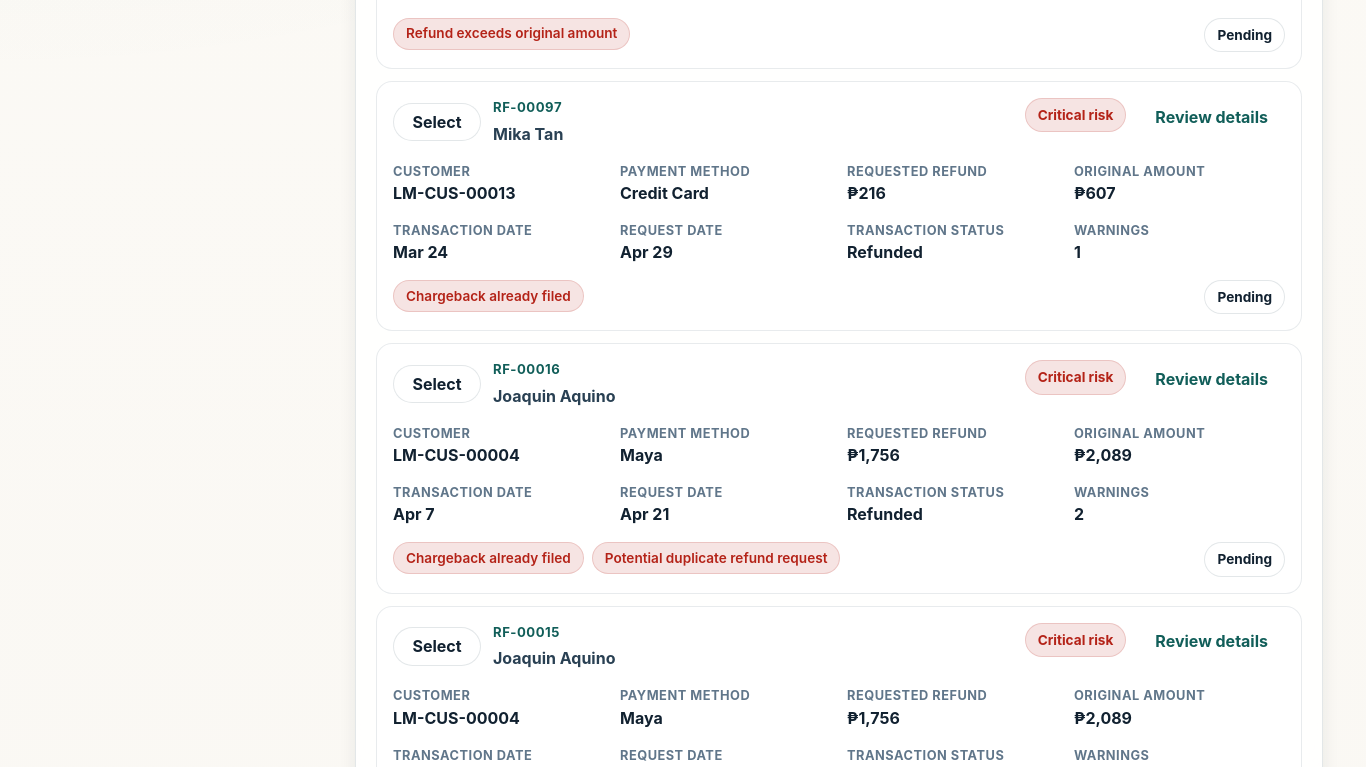
Test: AppRouter › opens batch review and allows excluding flagged items
The image size is (1366, 767).
(page scrolled)
Click the button with aria-label "Add RF-00016 to batch selection".
click(437, 384)  # box x1=393 y1=365 x2=481 y2=403
(page scrolled)
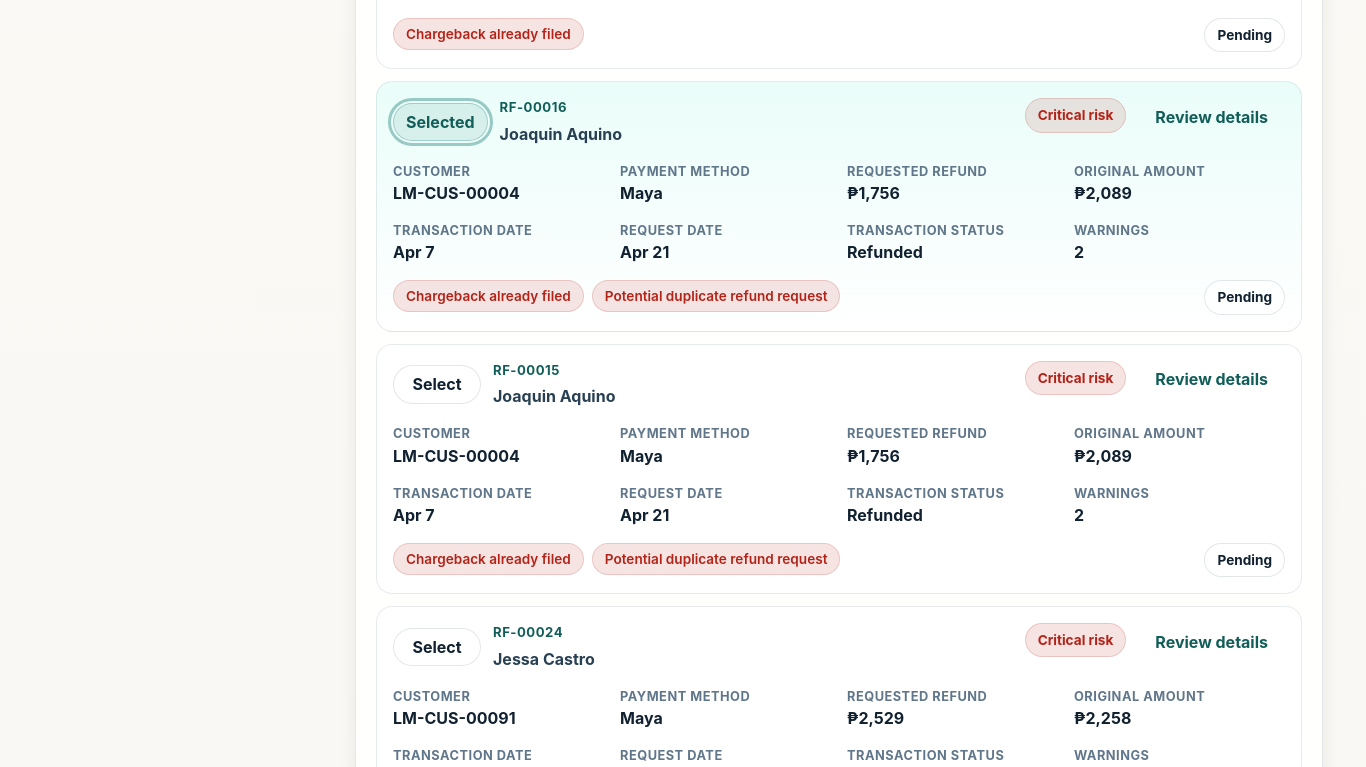
Click the button with aria-label "Add RF-00015 to batch selection".
click(437, 385)  # box x1=393 y1=366 x2=481 y2=404
(page scrolled)
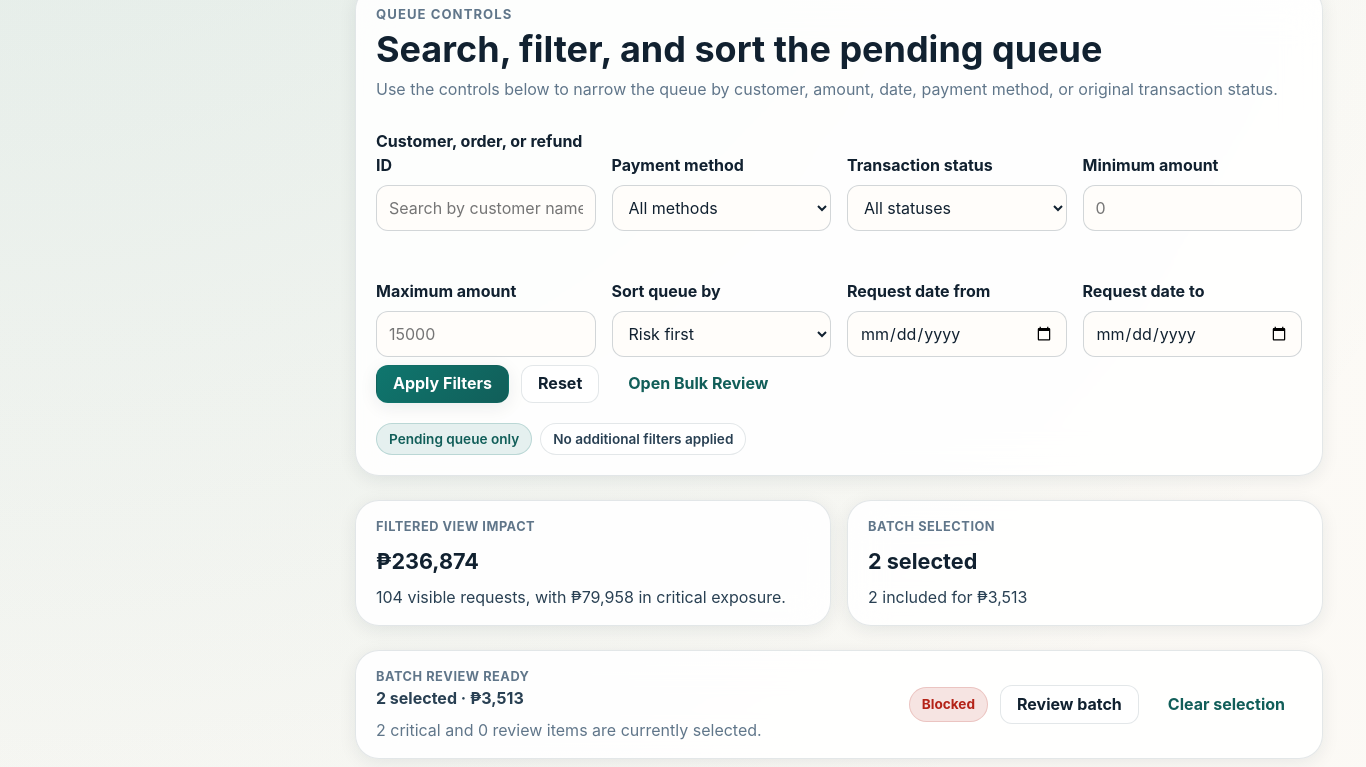
Click the button "Open Bulk Review".
click(698, 384)  # box x1=611 y1=365 x2=785 y2=403
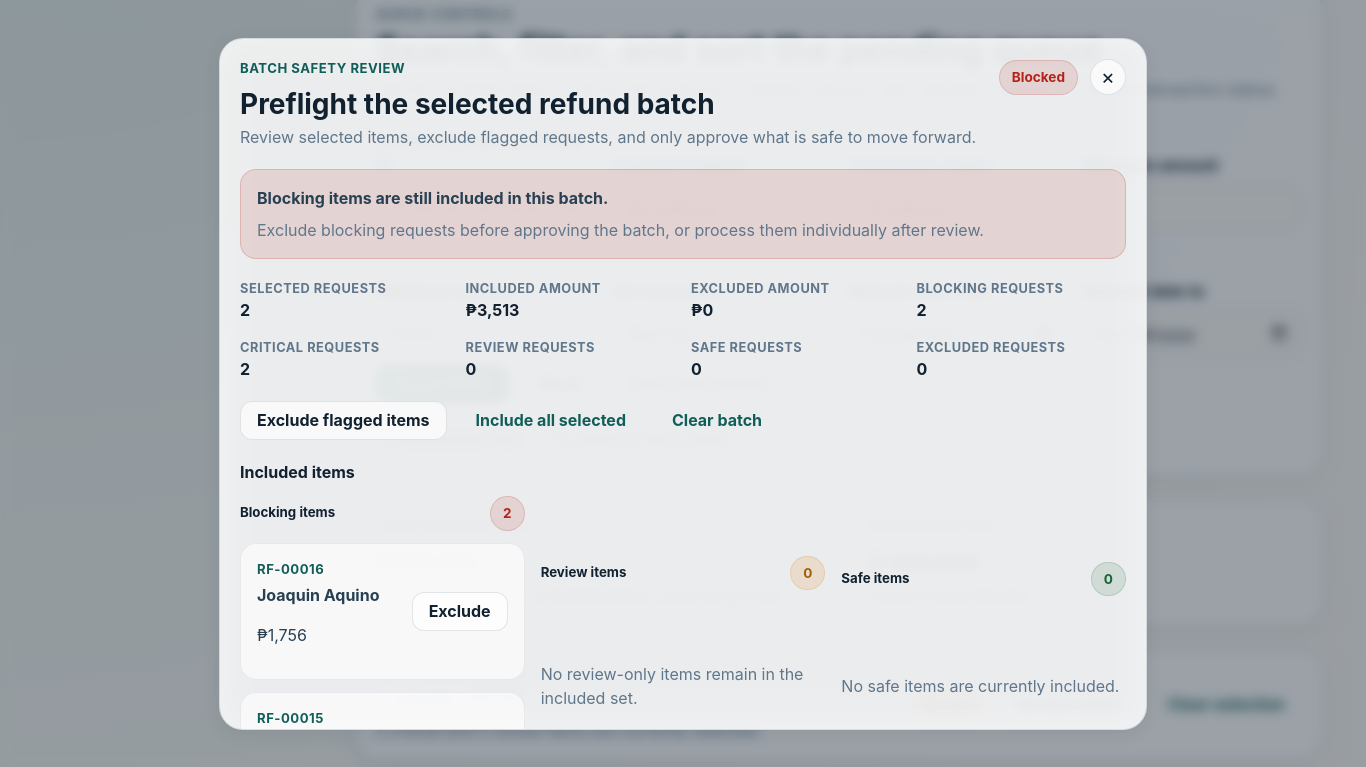
Now the heading "Preflight the selected refund batch" is shown, box x1=240 y1=87 x2=715 y2=121
Click the button "Exclude flagged items".
click(343, 421)  # box x1=240 y1=402 x2=446 y2=440
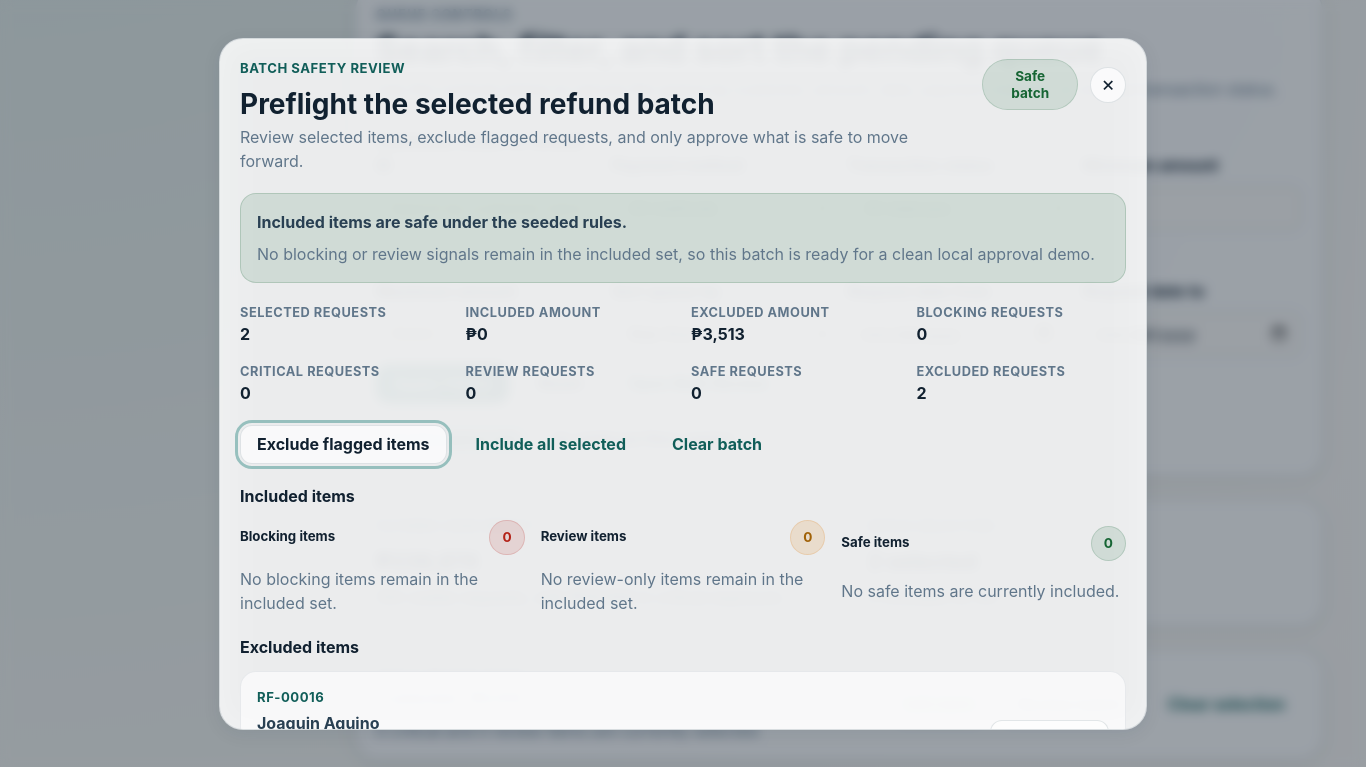
Now the heading "Excluded items" is shown, box x1=240 y1=637 x2=359 y2=657
